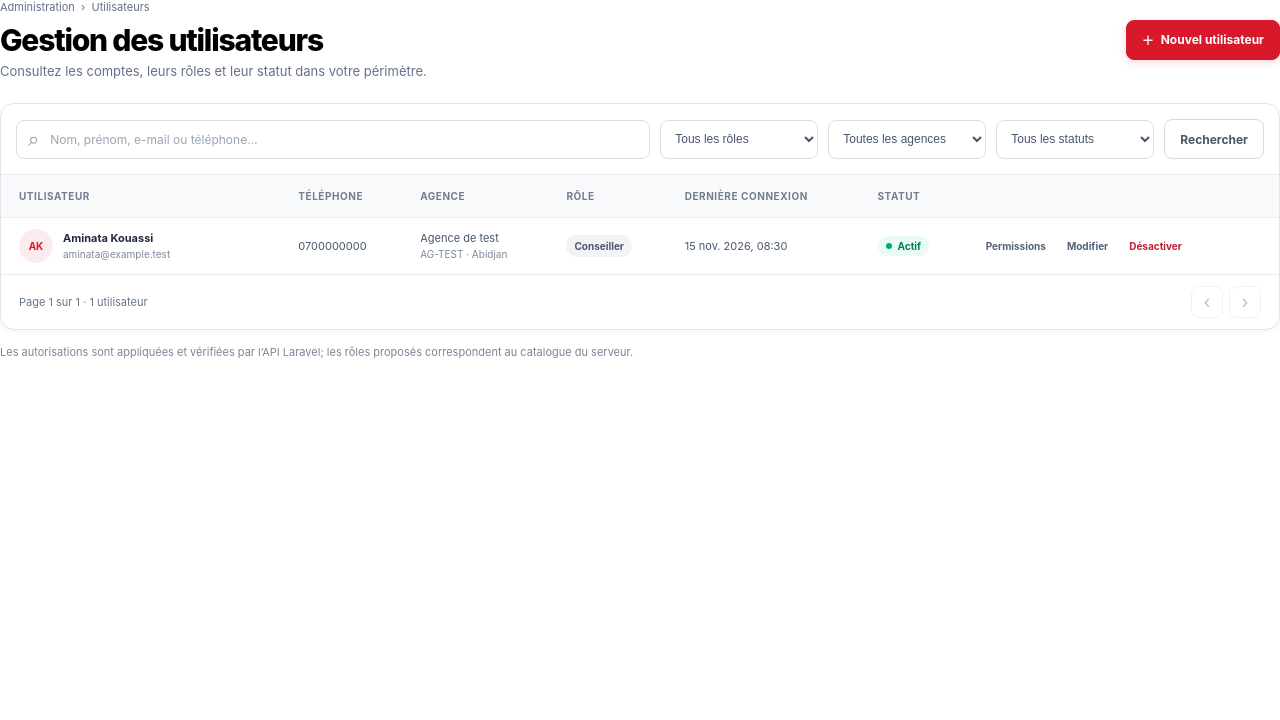
Test: updates a user while preserving the agency assignment returned by the API
The width and height of the screenshot is (1280, 720).
Expected: the text "Aminata Kouassi" is shown, [63, 231, 153, 245]
Click the button "Modifier": (1088, 246) [1059, 232, 1116, 260]
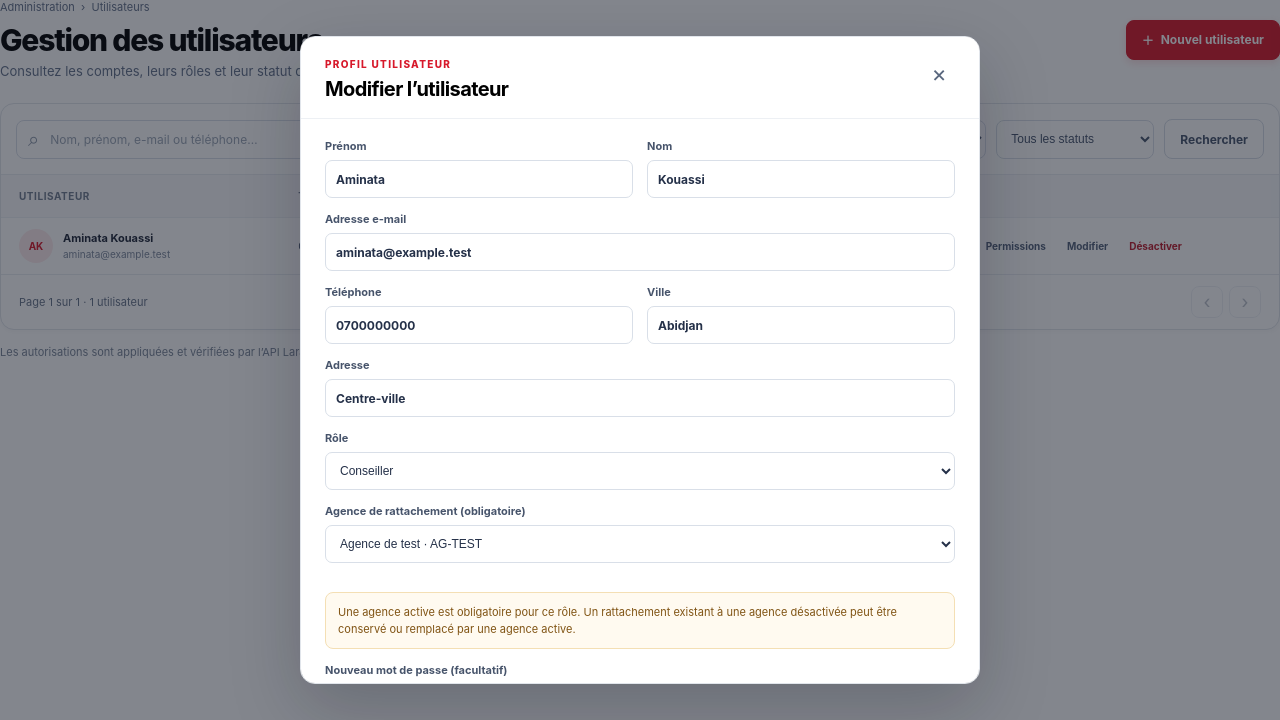
Replace the text in the field labelled "Téléphone" with "0709999999": (479, 325) [325, 306, 633, 344]
(page scrolled)
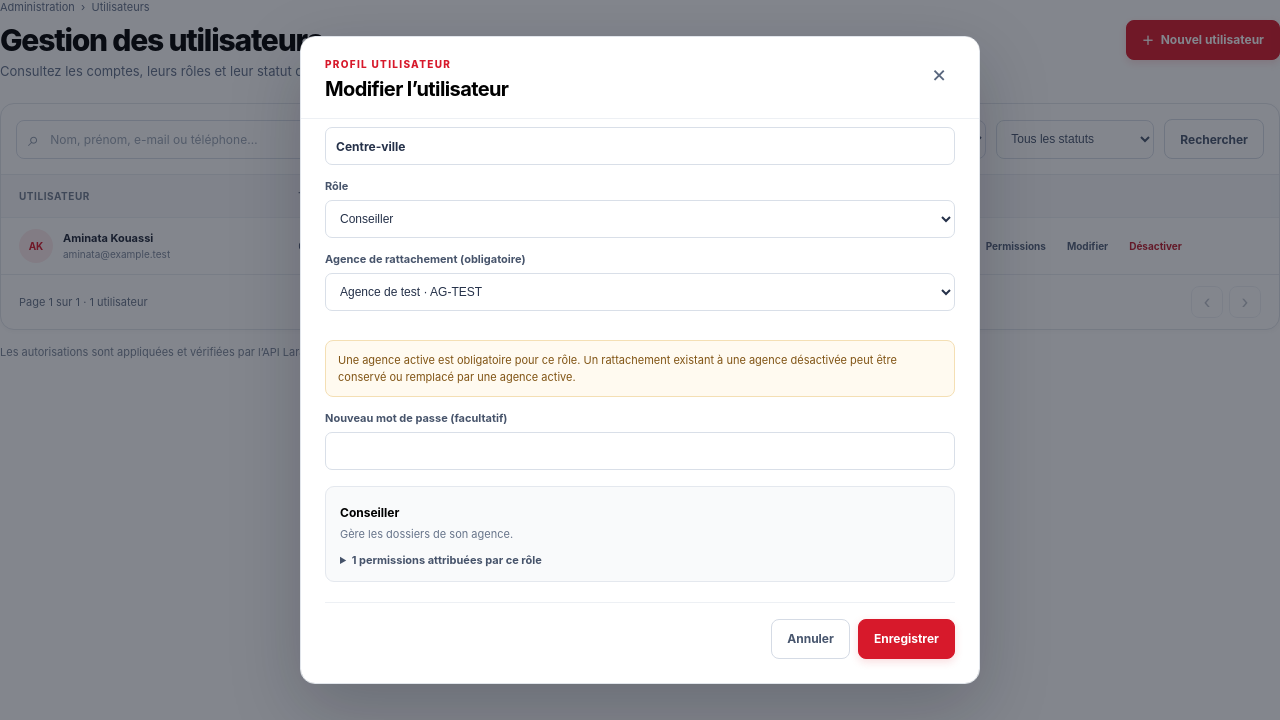
Click the button "Enregistrer": (906, 638) [858, 618, 955, 658]
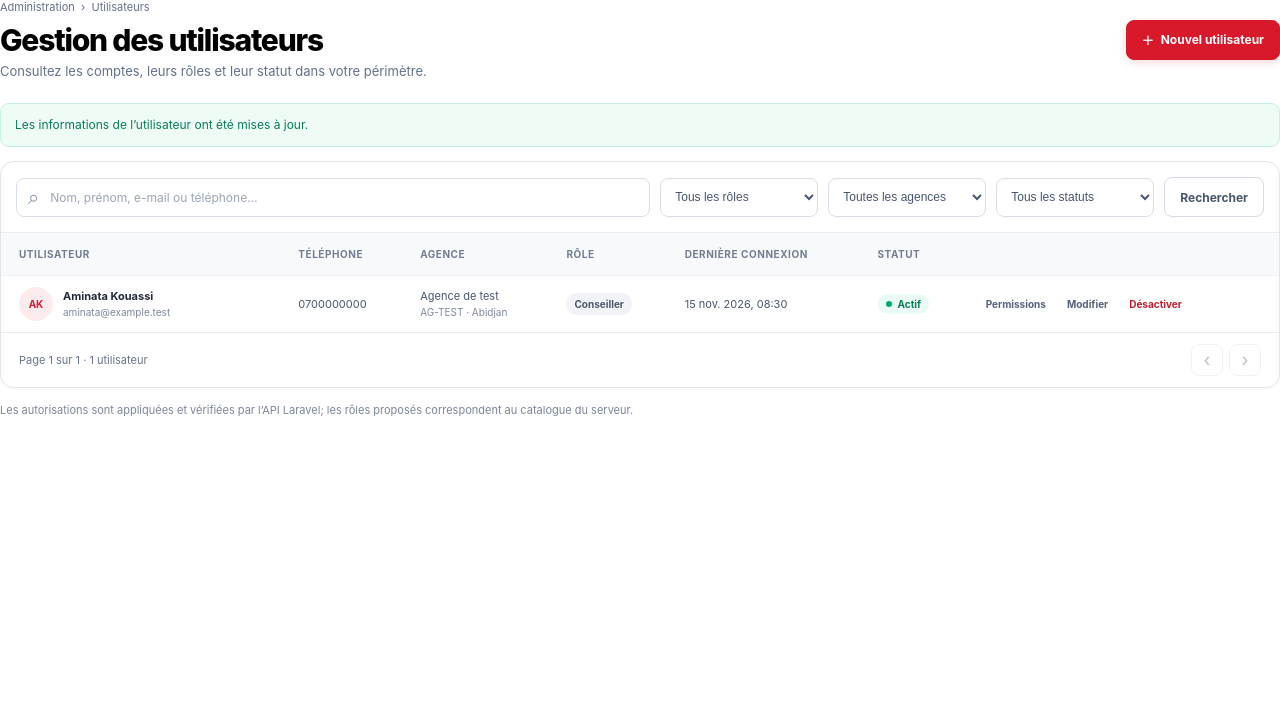
Expected: the message reads "Les informations de l’utilisateur ont été mises à jour.", [15, 117, 308, 132]
